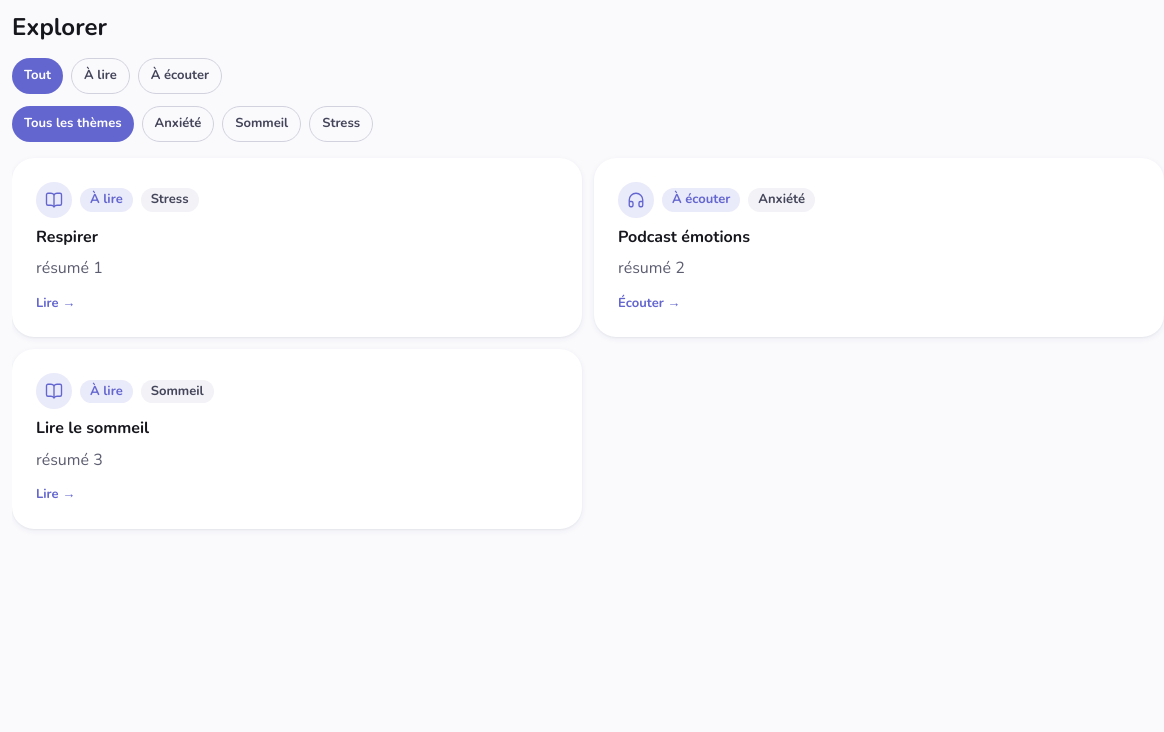
ResourceCatalog - filtres › filtre par thème au clic et reflète aria-pressed
Expected: the link "À lire Stress Respirer résumé 1 Lire →" is shown, [12, 158, 582, 338]
Click the button "Sommeil" at [262, 124], box [222, 106, 301, 142]
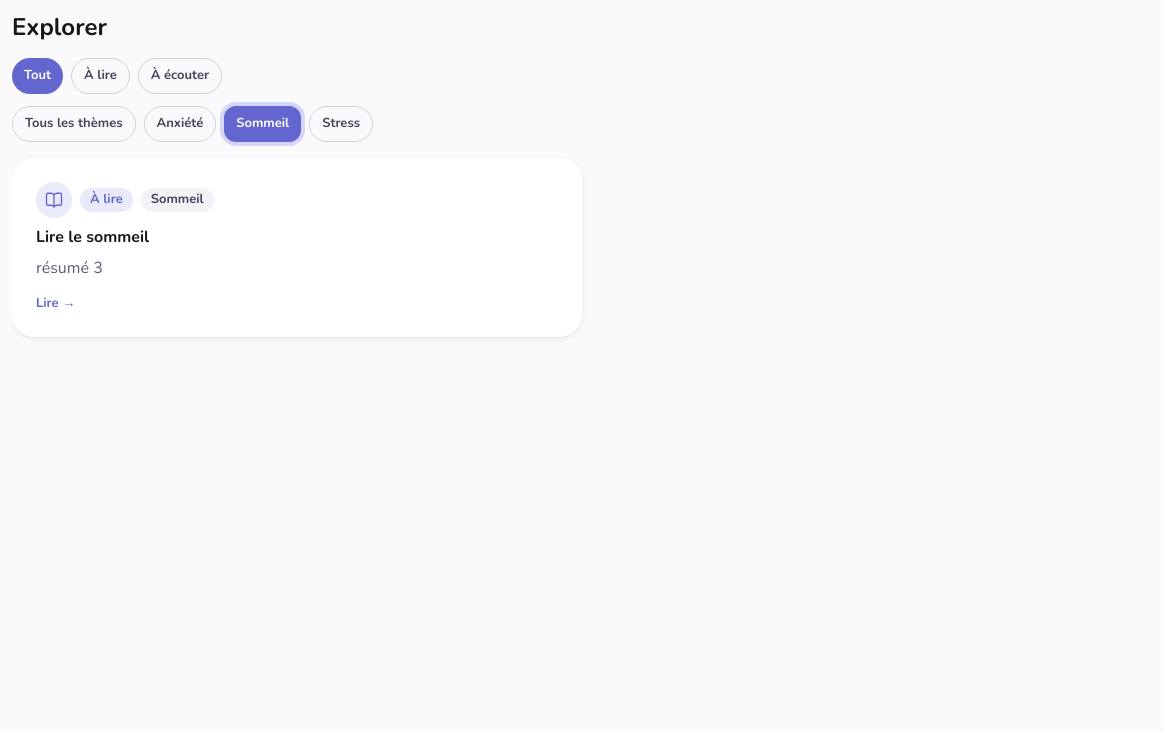
Expected: the link "À lire Sommeil Lire le sommeil résumé 3 Lire →" is shown, [12, 158, 582, 338]
Expected: the link "Respirer" is gone
